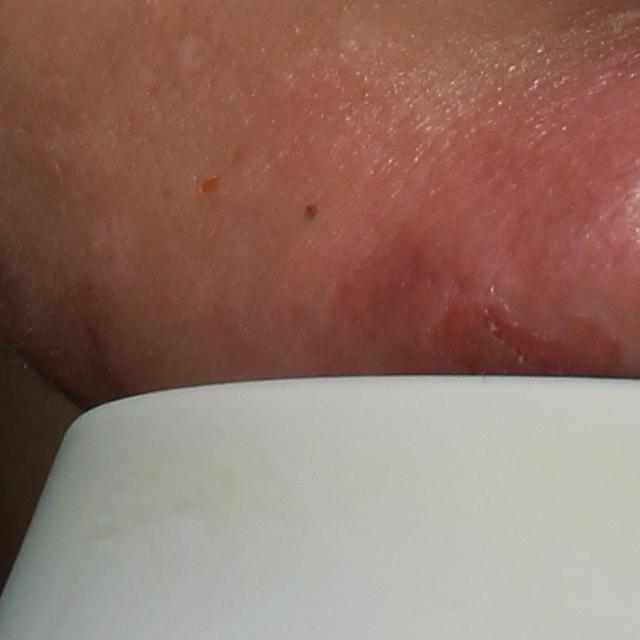hypertrophic_scar: (166, 31, 202, 89)
nevus: (302, 205, 318, 223)
